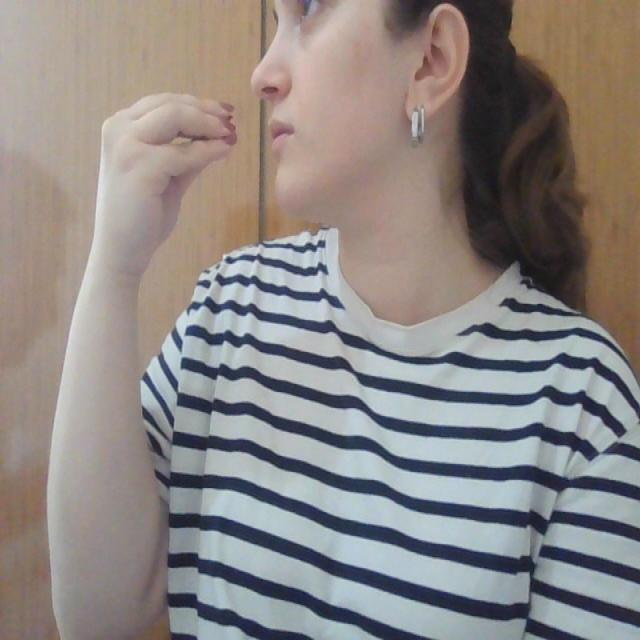Yemek: (94, 88, 298, 175)
